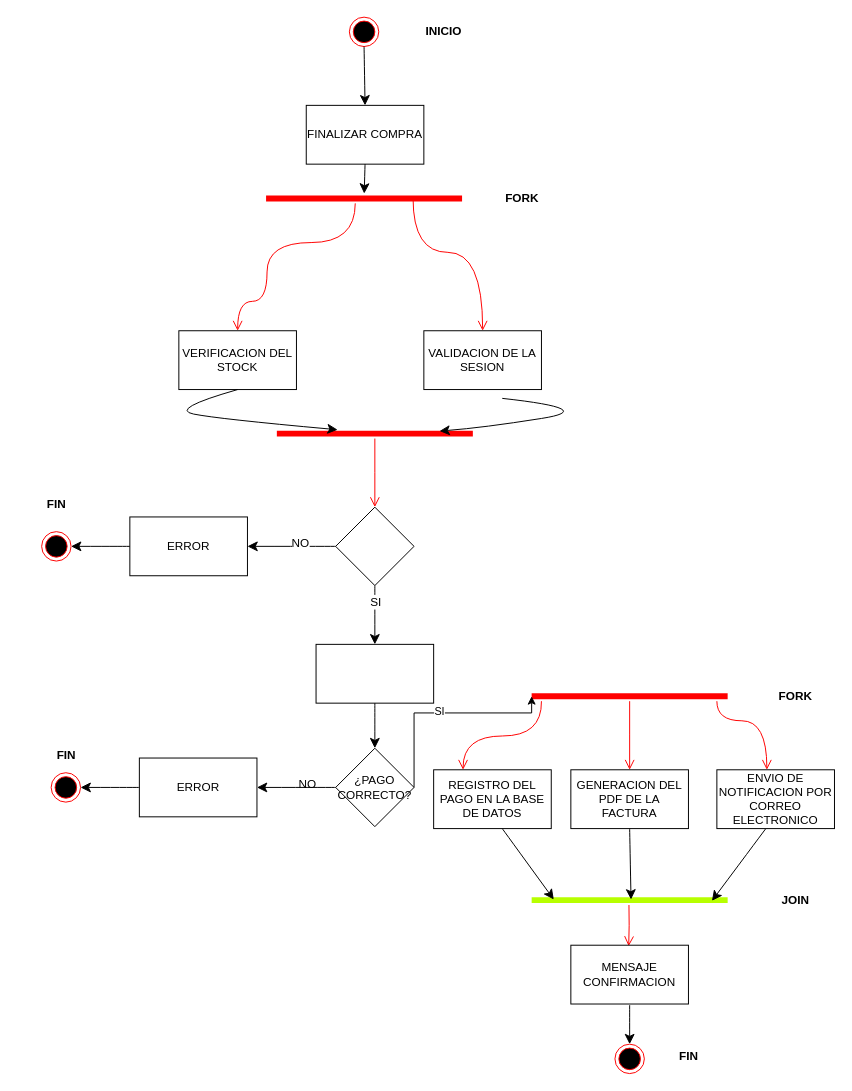
This 852x1091 diagram has some shape labels left out. The centre of each missing label's shape, as x and y in pixels:
PASARELA PAGO SEGURO: (x=374, y=673)
¿SON AMBOS CORRECTOS?: (x=374, y=546)
